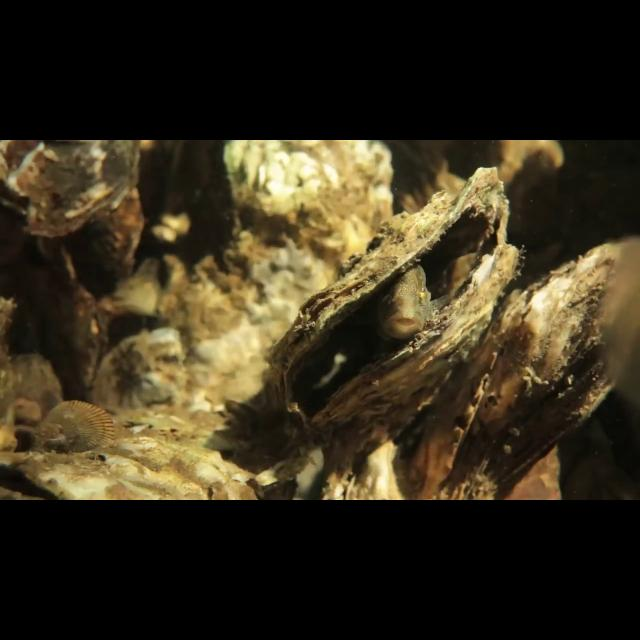Oyster-Closed: (425, 232, 635, 491), (218, 140, 393, 328), (2, 183, 103, 402), (0, 140, 143, 239)
Oyster-Open: (262, 164, 518, 441)
